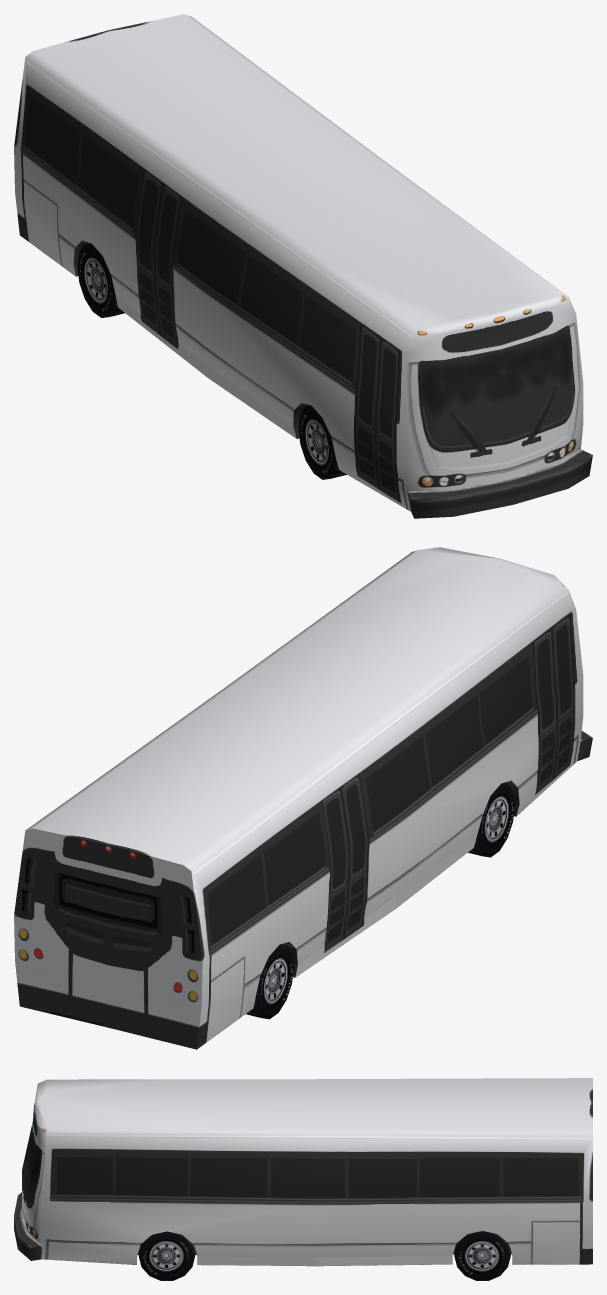
The model's file is Bus.fbx.
3 renders of one model, top to bottom at view 1: azimuth 30°, elevation 25°; view 2: azimuth 150°, elevation 25°; view 3: azimuth 270°, elevation 25°, orthographic. The views are drawn at different scales.
Visible parts, largest first — view 1: BusBody, WheelBR, WheelFR; view 2: BusBody, WheelBR, WheelFR; view 3: BusBody, WheelBL, WheelFL.
Part boxes in pixels (x1,y1,x2,y2): BusBody: [14, 14, 592, 518]; WheelBR: [77, 242, 124, 317]; WheelFR: [298, 404, 346, 479]; BusBody: [14, 547, 592, 1049]; WheelBR: [246, 943, 293, 1019]; WheelFR: [468, 782, 514, 857]; BusBody: [14, 1078, 592, 1266]; WheelBL: [454, 1231, 510, 1280]; WheelFL: [138, 1231, 195, 1280].
Bounding box in the file's own units: 277 × 278 × 982.
